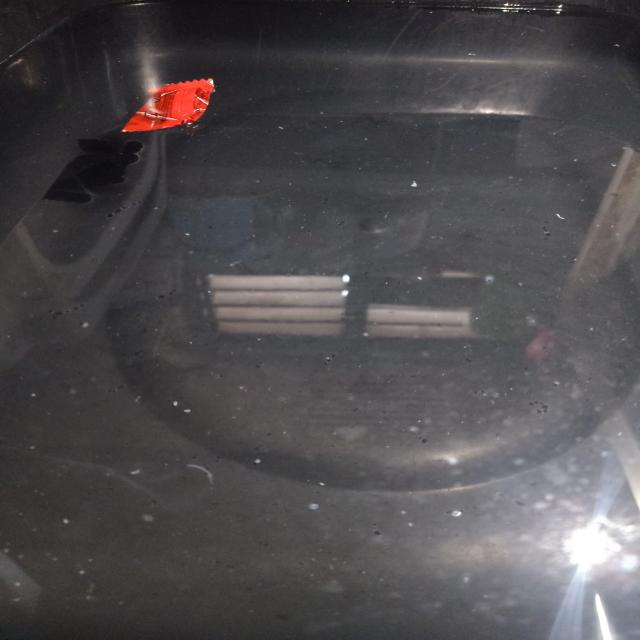Plastic Wrapper: (121, 78, 214, 132)
